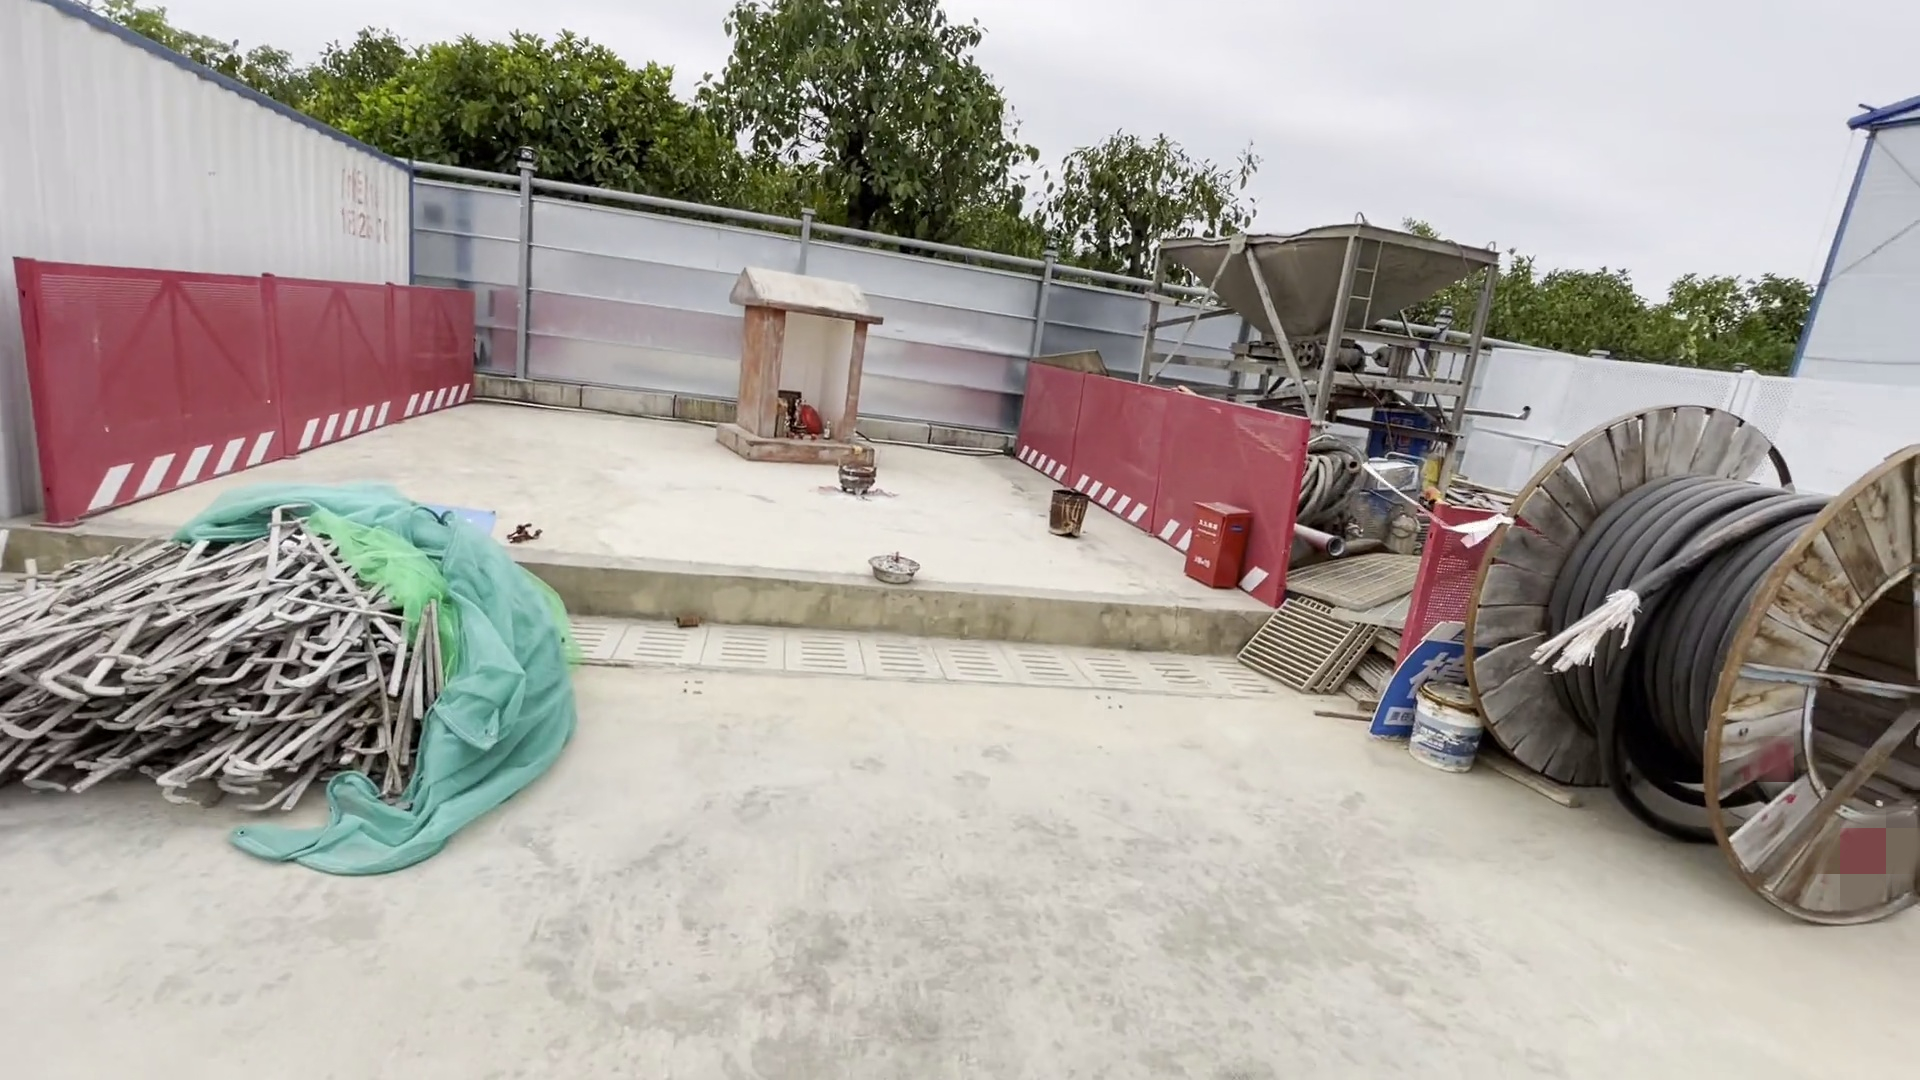fence: (11, 231, 488, 525), (1007, 363, 1312, 615)
